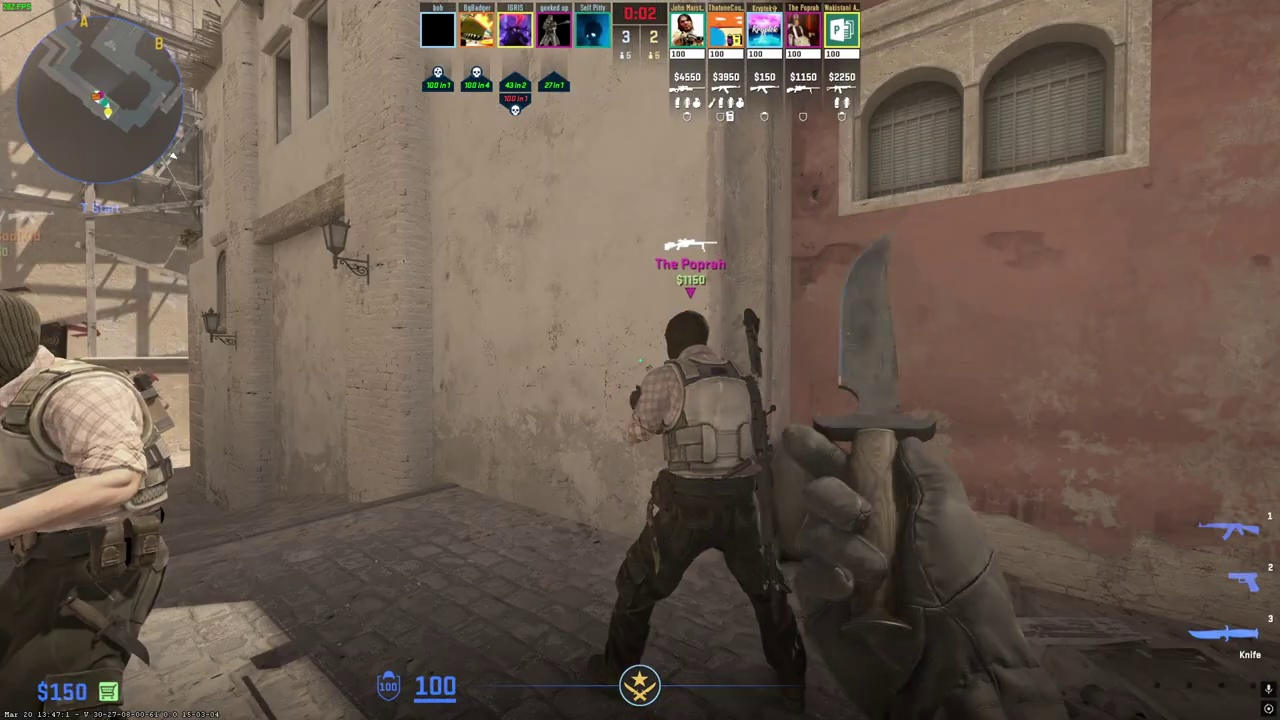Terrorist: (0, 291, 172, 720), (609, 309, 772, 703)
